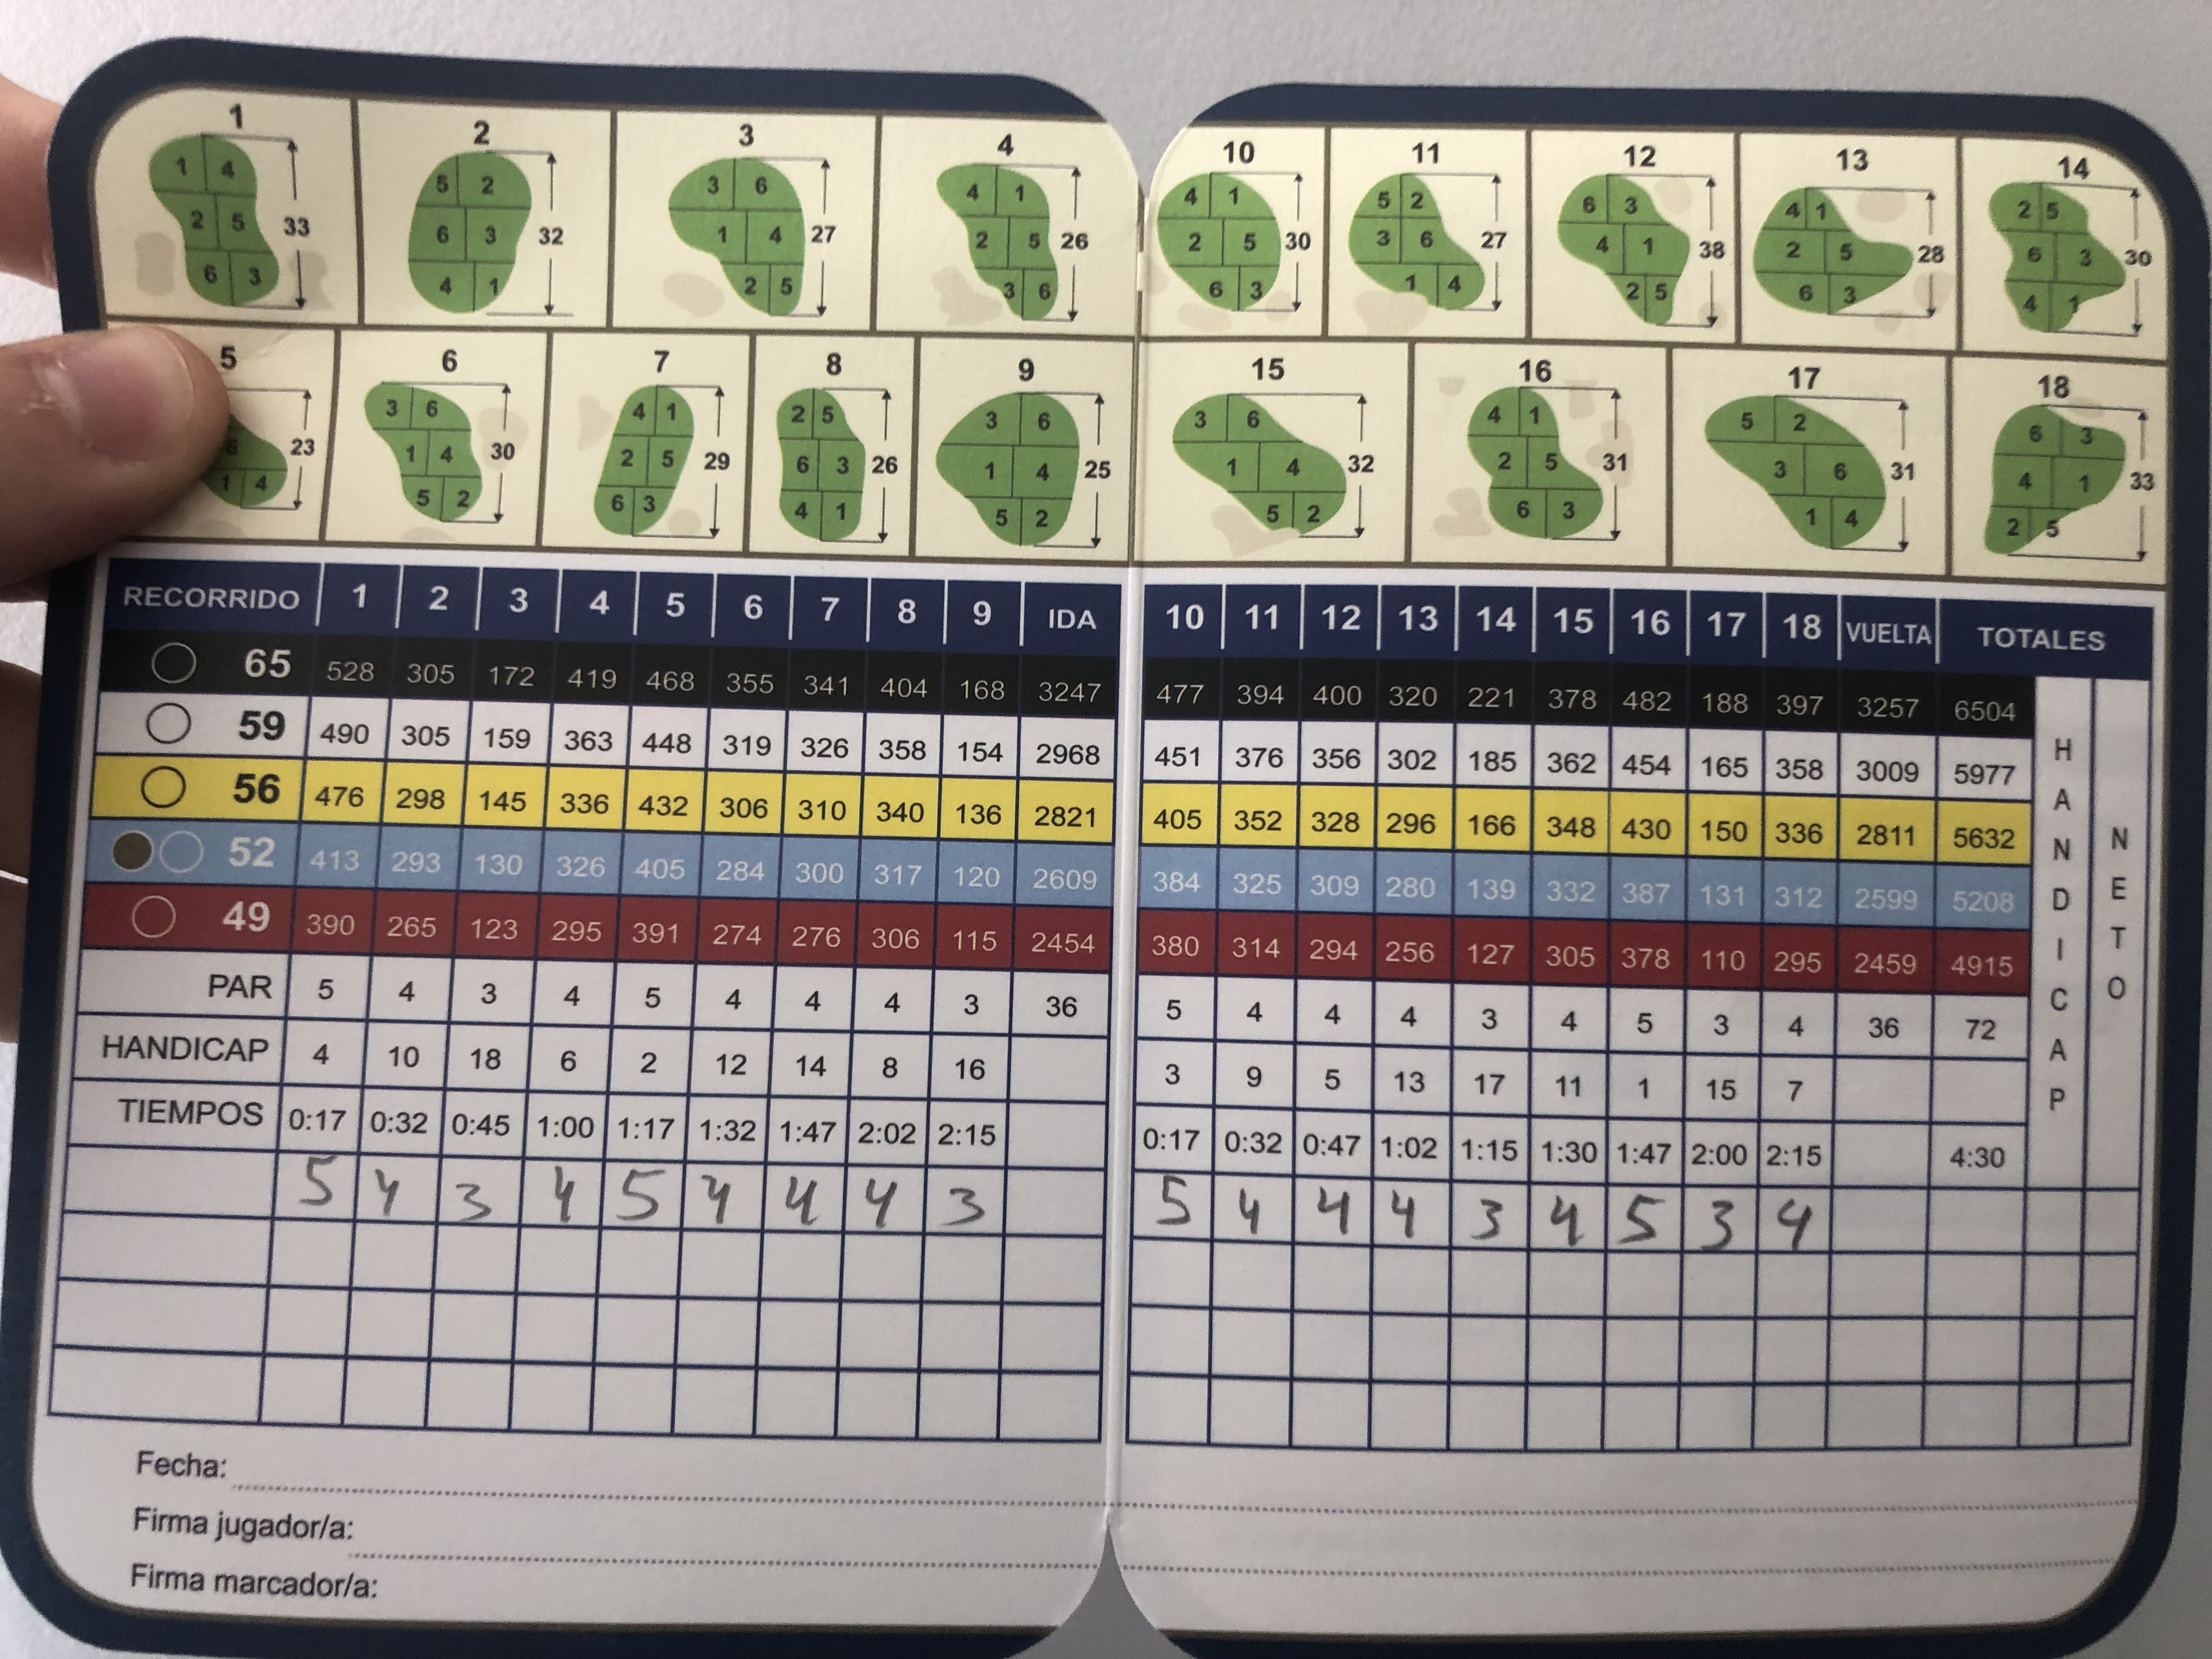par: (193, 967, 2026, 1053)
score: (266, 1161, 1811, 1258)
